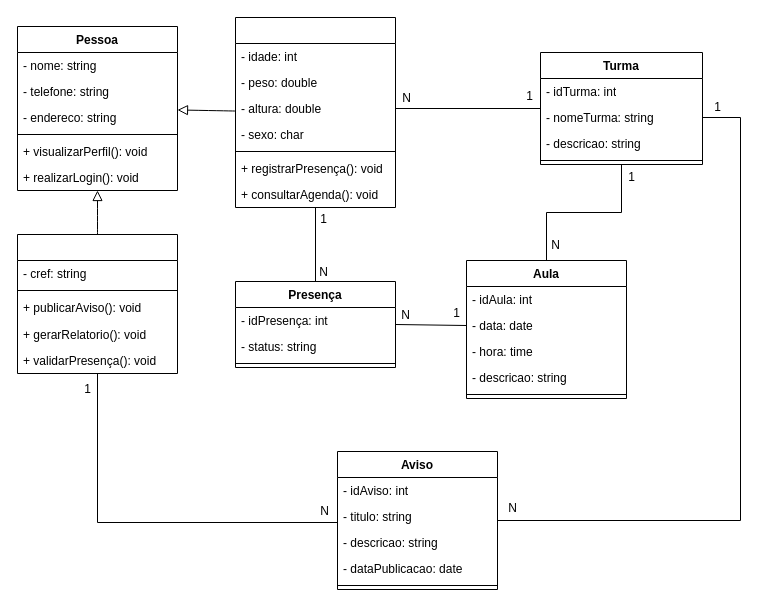
This 759x607 diagram has some shape labels left out. The shapes that lost their labels are listed below. From the top down, each one's box as (x1, y1, x2, y2) in pixels, then its label:
(234, 16, 396, 208): Aluno
(16, 234, 178, 374): Professor
